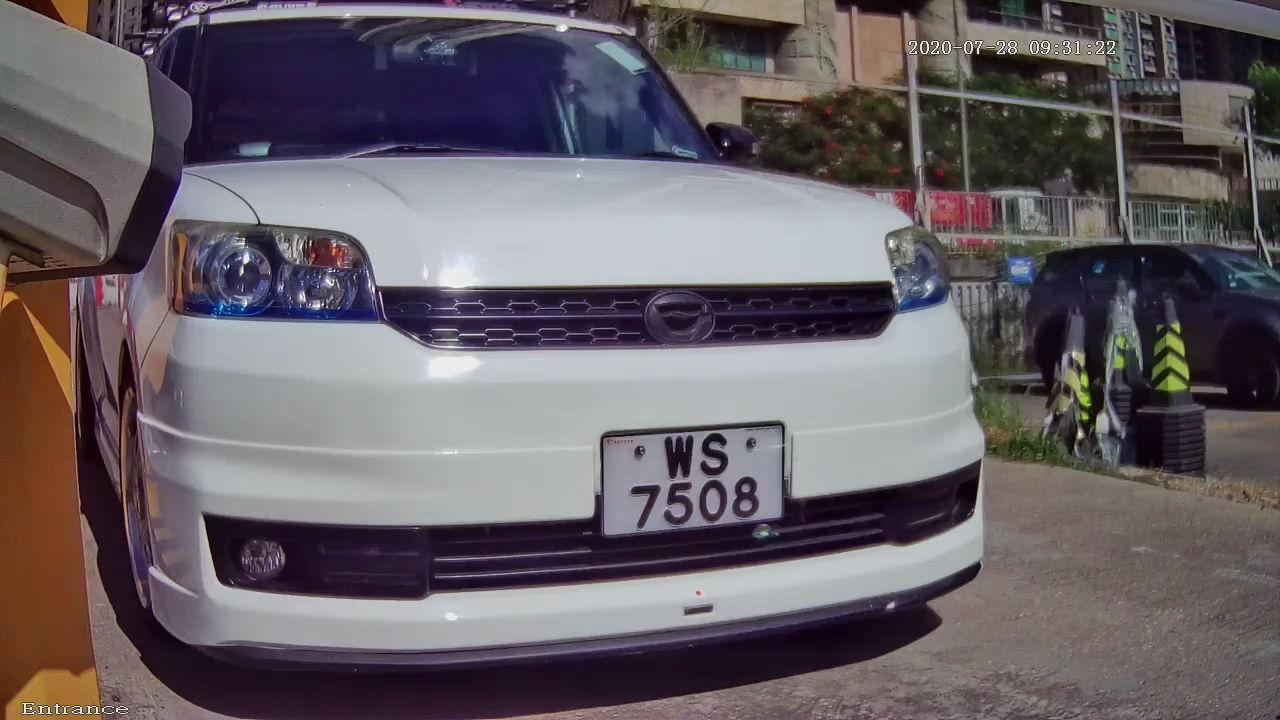privatecar: (18, 1, 1126, 720)
